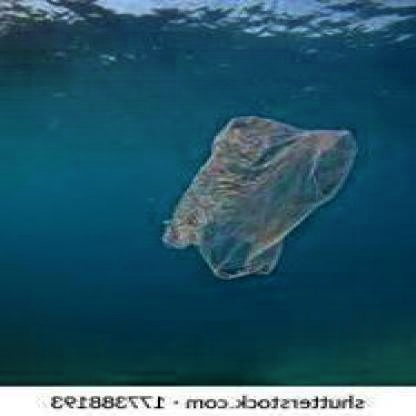pbag: (158, 114, 358, 282)
